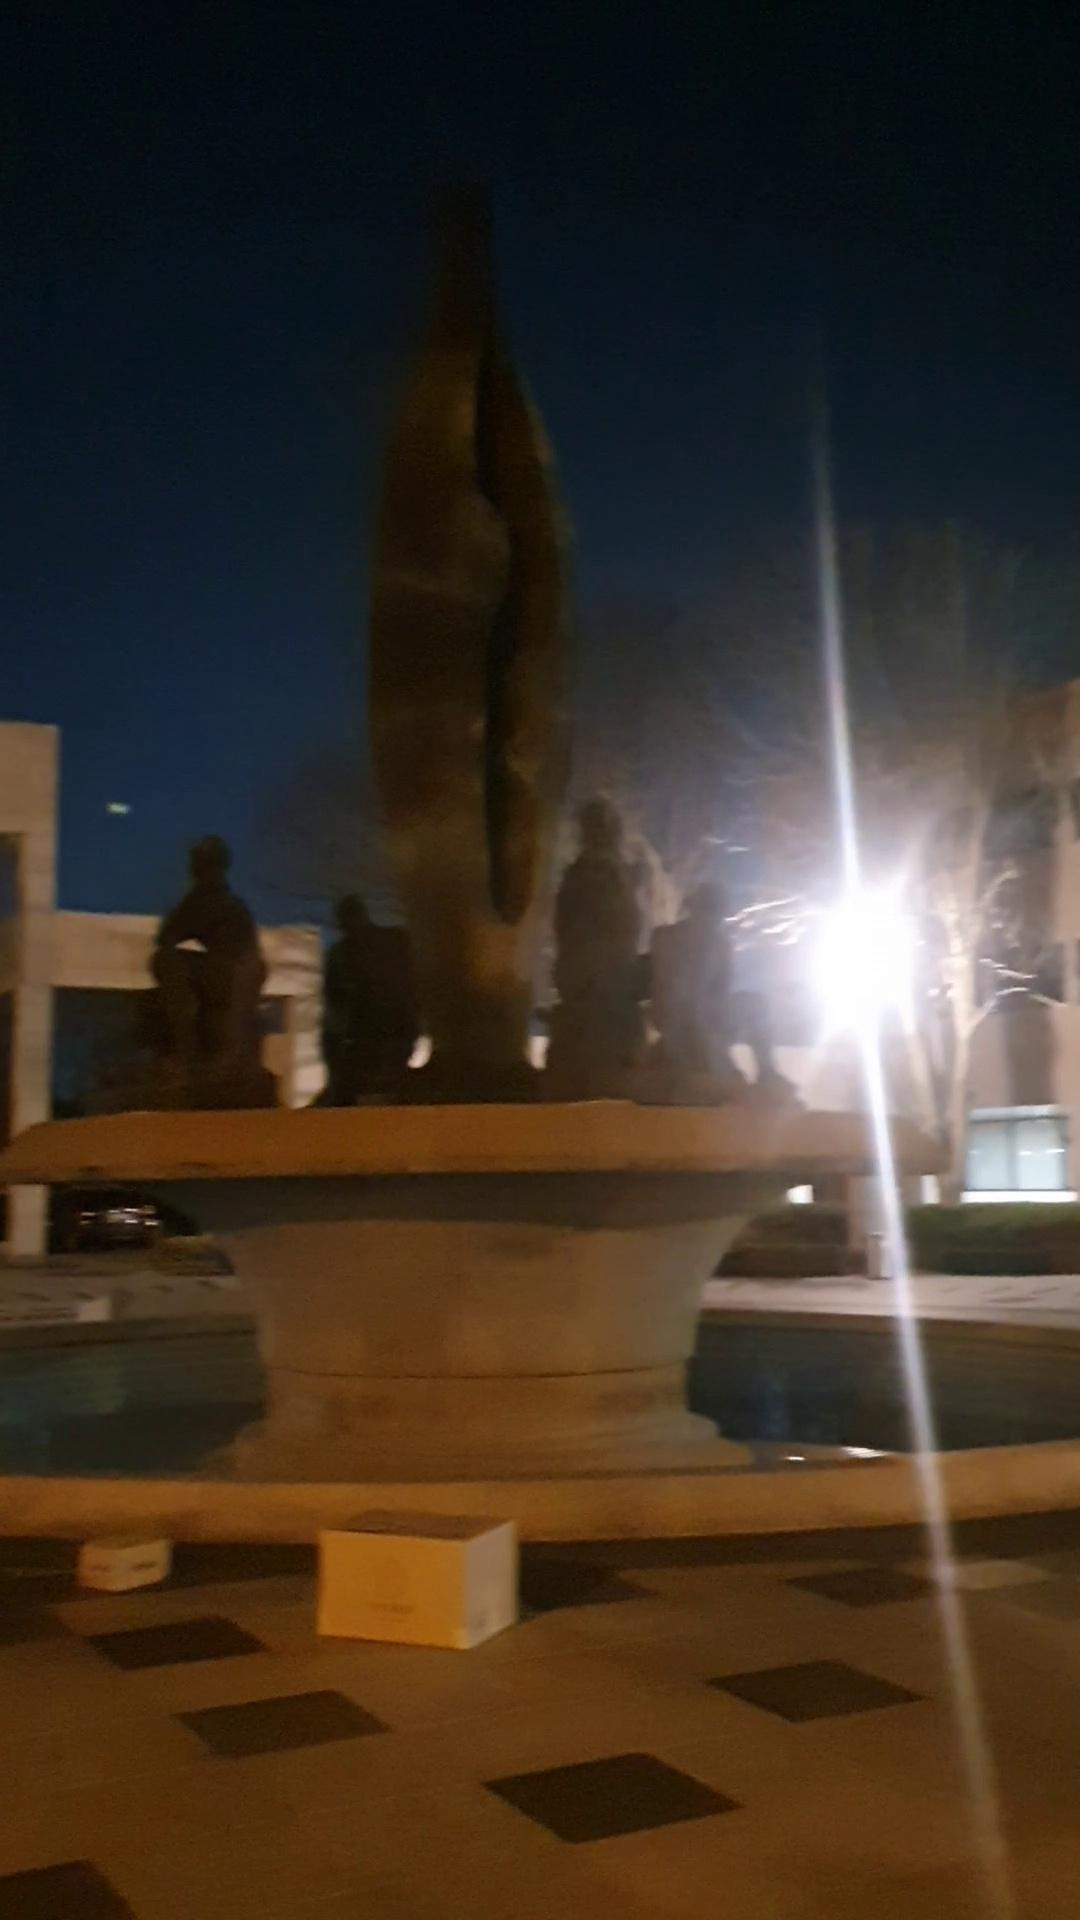Box: (301, 1490, 525, 1650), (63, 1523, 175, 1596)
